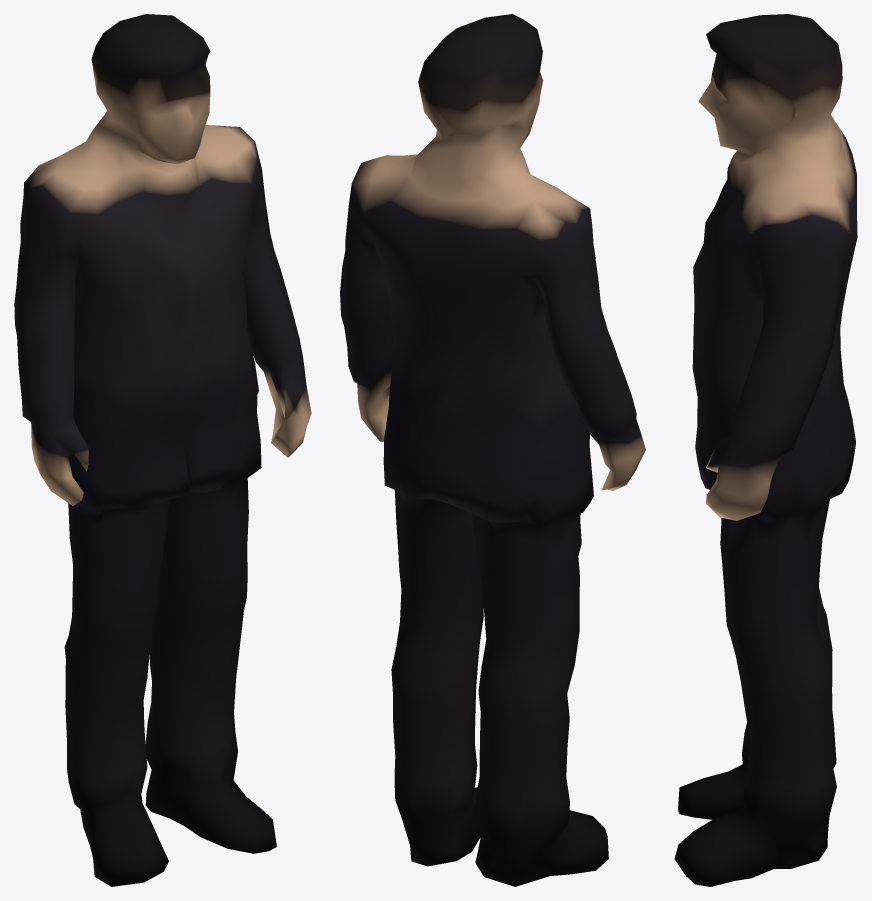
The model's file is visitor.glb.
3 views of the same model, side by side, from view 1: azimuth 30°, elevation 25°; view 2: azimuth 150°, elevation 25°; view 3: azimuth 270°, elevation 25° (orthographic). The views are drawn at different scales.
Visible parts, largest first — view 1: body; view 2: body; view 3: body.
Boxes of the visible parts, x1=… form: body: x1=14, y1=14, x2=311, y2=886; body: x1=340, y1=14, x2=645, y2=886; body: x1=674, y1=14, x2=857, y2=886.
Bounding box in the file's own units: 0.5978 × 1.74 × 0.3509.
